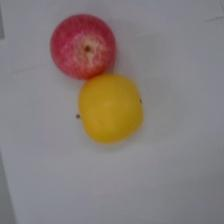red: (50, 14, 116, 79)
yellow: (77, 73, 144, 144)
